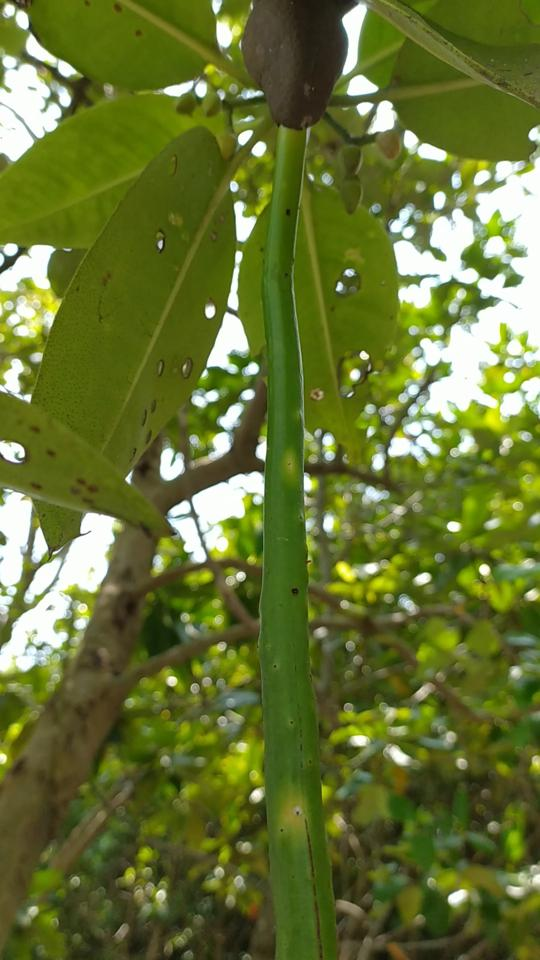mentah: (235, 1, 370, 959)
